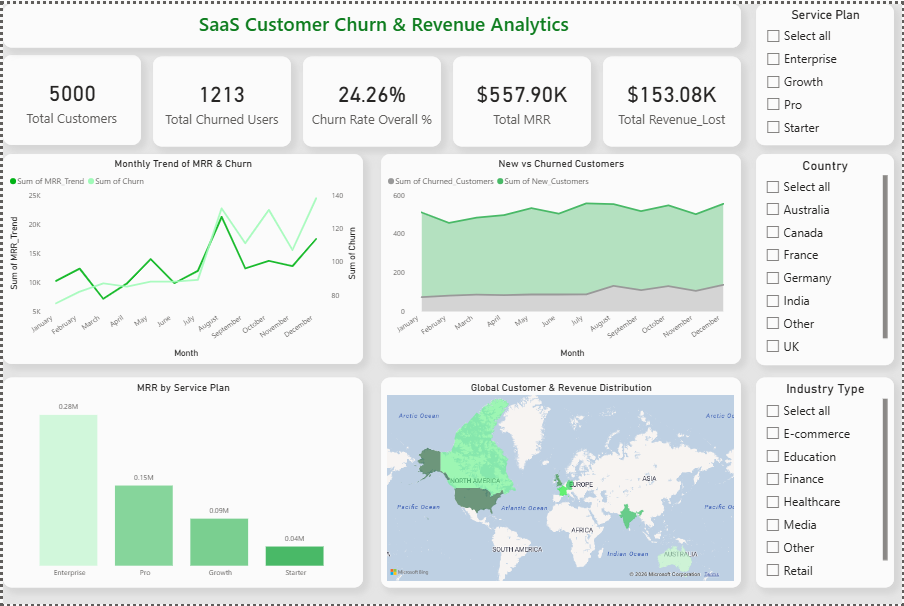

The page's visual inventory and layout, read from the dashboard file:
{"tool":"powerbi","page":{"name":"Executive Overview","canvas":[1500,1000],"ordinal":0},"visuals":[{"type":"card","fields":{"Values":["Sum(Overview.Total_Customers)"]},"box":[0,86,230,150],"z":0},{"type":"card","fields":{"Values":["Overview.Total MRR"]},"box":[750,87.5,230,150],"z":1000},{"type":"card","fields":{"Values":["Sum(Overview.Churned_Users)"]},"box":[250,86.5,230,150],"z":2000},{"type":"card","fields":{"Values":["Overview.Churn Rate Overall %"]},"box":[500,87,230,150],"z":3000},{"type":"card","fields":{"Values":["Overview.Total Revenue_Lost"]},"box":[1000,88,230,150],"z":4000},{"type":"lineChart","title":"Monthly Trend of MRR & Churn","fields":{"Category":["Monthly_Trend.Month.Variation.Date Hierarchy.Year","Monthly_Trend.Month.Variation.Date Hierarchy.Quarter","Monthly_Trend.Month.Variation.Date Hierarchy.Month","Monthly_Trend.Month.Variation.Date Hierarchy.Day"],"Y":["Sum(Monthly_Trend.MRR_Trend)"],"Y2":["Sum(Monthly_Trend.Churn)"]},"box":[0,250,600,350],"z":5000},{"type":"stackedAreaChart","title":"New vs Churned Customers","fields":{"Category":["New_vs_ChurnedUsers.Month.Variation.Date Hierarchy.Year","New_vs_ChurnedUsers.Month.Variation.Date Hierarchy.Month"],"Y":["Sum(New_vs_ChurnedUsers.Churned_Customers)","Sum(New_vs_ChurnedUsers.New_Customers)"]},"box":[630,250,600,350],"z":6000},{"type":"textbox","box":[0,0,1230,72.5],"z":7000},{"type":"clusteredColumnChart","title":"MRR by Service Plan","fields":{"Category":["Plan_Metrics.plan"],"Y":["Sum(Plan_Metrics.MRRbyPlan)"]},"box":[0,622.5,600,350],"z":8000},{"type":"filledMap","title":"Global Customer & Revenue Distribution","fields":{"Category":["Country_Metrics.country"],"Series":["Country_Metrics.Customers_by_Country"]},"box":[630,622,600,350],"z":9000},{"type":"slicer","title":"Service Plan","fields":{"Values":["Plan_Metrics.plan"]},"box":[1255,0,230,235],"z":10000},{"type":"slicer","title":"Country","fields":{"Values":["Country_Metrics.country"]},"box":[1256,250,230,352],"z":11000},{"type":"slicer","title":"Industry Type","fields":{"Values":["Industry_Metrics.industry"]},"box":[1255,622.5,230,350],"z":12000}]}

Visuals, with their boxes in screenshot pixels (x1, y1, x2, y2), scaled from the page's 1500x1000 canvas onto the 904x606 screenshot:
card - Sum(Overview.Total_Customers): 0, 52, 139, 143
card - Overview.Total MRR: 452, 53, 591, 144
card - Sum(Overview.Churned_Users): 151, 52, 289, 143
card - Overview.Churn Rate Overall %: 301, 53, 440, 144
card - Overview.Total Revenue_Lost: 603, 53, 741, 144
"Monthly Trend of MRR & Churn" lineChart: 0, 152, 362, 364
"New vs Churned Customers" stackedAreaChart: 380, 152, 741, 364
textbox: 0, 0, 741, 44
"MRR by Service Plan" clusteredColumnChart: 0, 377, 362, 589
"Global Customer & Revenue Distribution" filledMap: 380, 377, 741, 589
"Service Plan" slicer: 756, 0, 895, 142
"Country" slicer: 757, 152, 896, 365
"Industry Type" slicer: 756, 377, 895, 589
